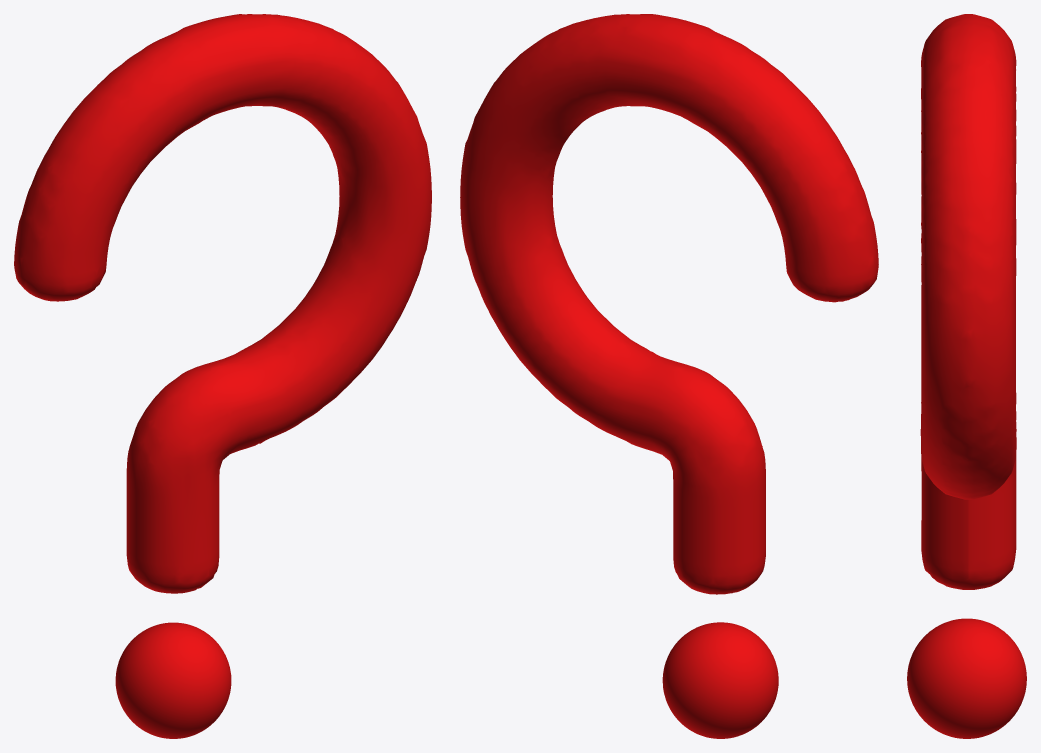
File: question.fbx
3 renders of one model, left to right at view 1: azimuth 30°, elevation 25°; view 2: azimuth 150°, elevation 25°; view 3: azimuth 270°, elevation 25°, orthographic. The views are drawn at different scales.
Parts seen in each view (by area): view 1: Torus.002; view 2: Torus.002; view 3: Torus.002.
Part boxes in pixels (box(x1,y1,x2,y2)): Torus.002: box(14, 14, 431, 738); Torus.002: box(460, 14, 878, 738); Torus.002: box(907, 14, 1026, 738).
Size of the model in its own units: 799 by 1312 by 197.
